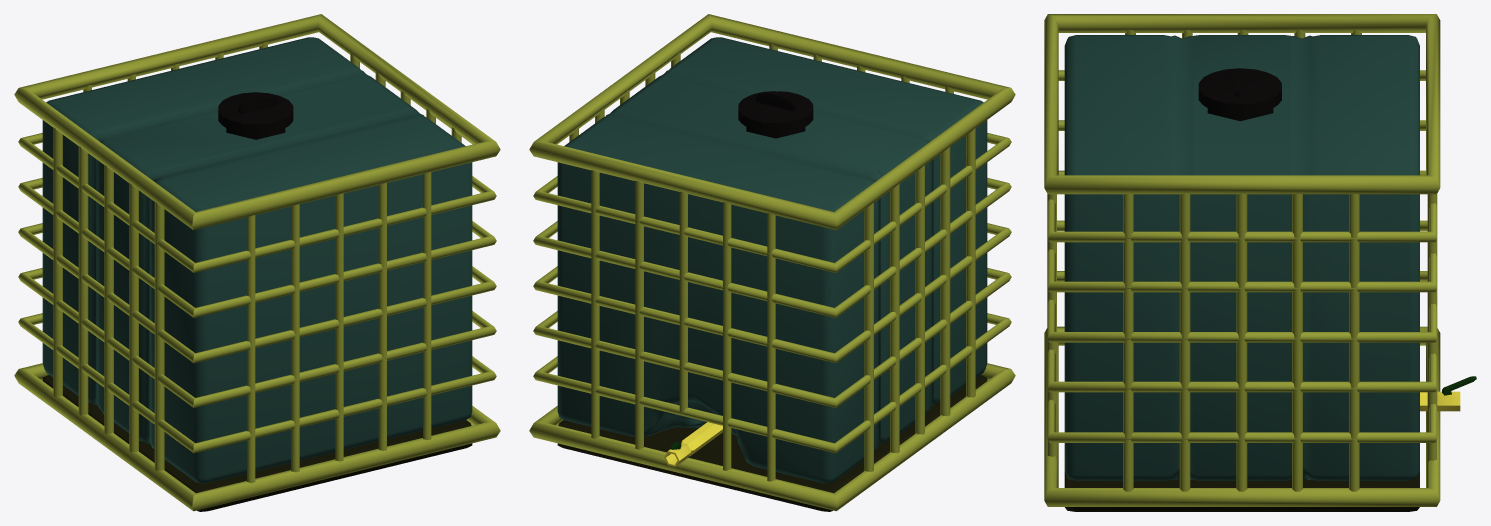
File: SM_Water Tank.fbx
The picture shows the model from 3 angles, left to right: view 1: azimuth 30°, elevation 25°; view 2: azimuth 150°, elevation 25°; view 3: azimuth 270°, elevation 25°; orthographic projection. The views are drawn at different scales.
Visible parts, largest first — view 1: Cylinder028; view 2: Cylinder028; view 3: Cylinder028.
Part boxes in pixels (box(x1,y1,x2,y2)): Cylinder028: box(14, 14, 500, 511); Cylinder028: box(529, 14, 1015, 511); Cylinder028: box(1044, 14, 1476, 511).
Size of the model in its own units: 35.11 by 35.45 by 38.33.
